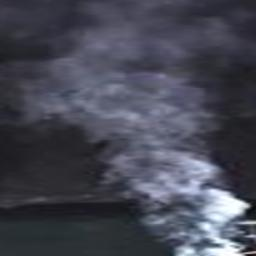smoke: (19, 0, 248, 255)
